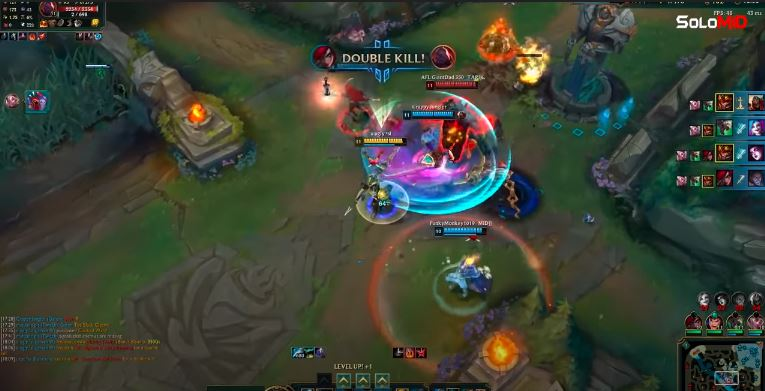bar: (353, 135, 409, 148), (403, 108, 456, 121), (425, 79, 480, 91), (435, 225, 487, 237), (328, 59, 386, 69)
